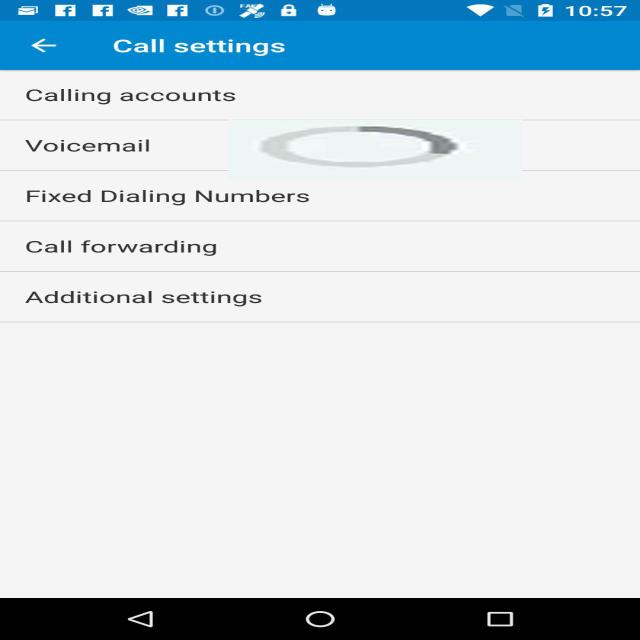misdirection: (229, 120, 522, 180)
